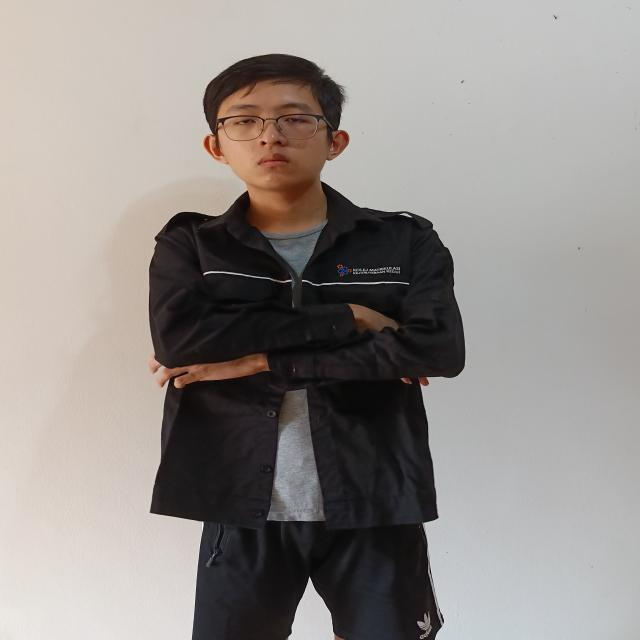person_with_labcoat: (149, 54, 465, 640)
